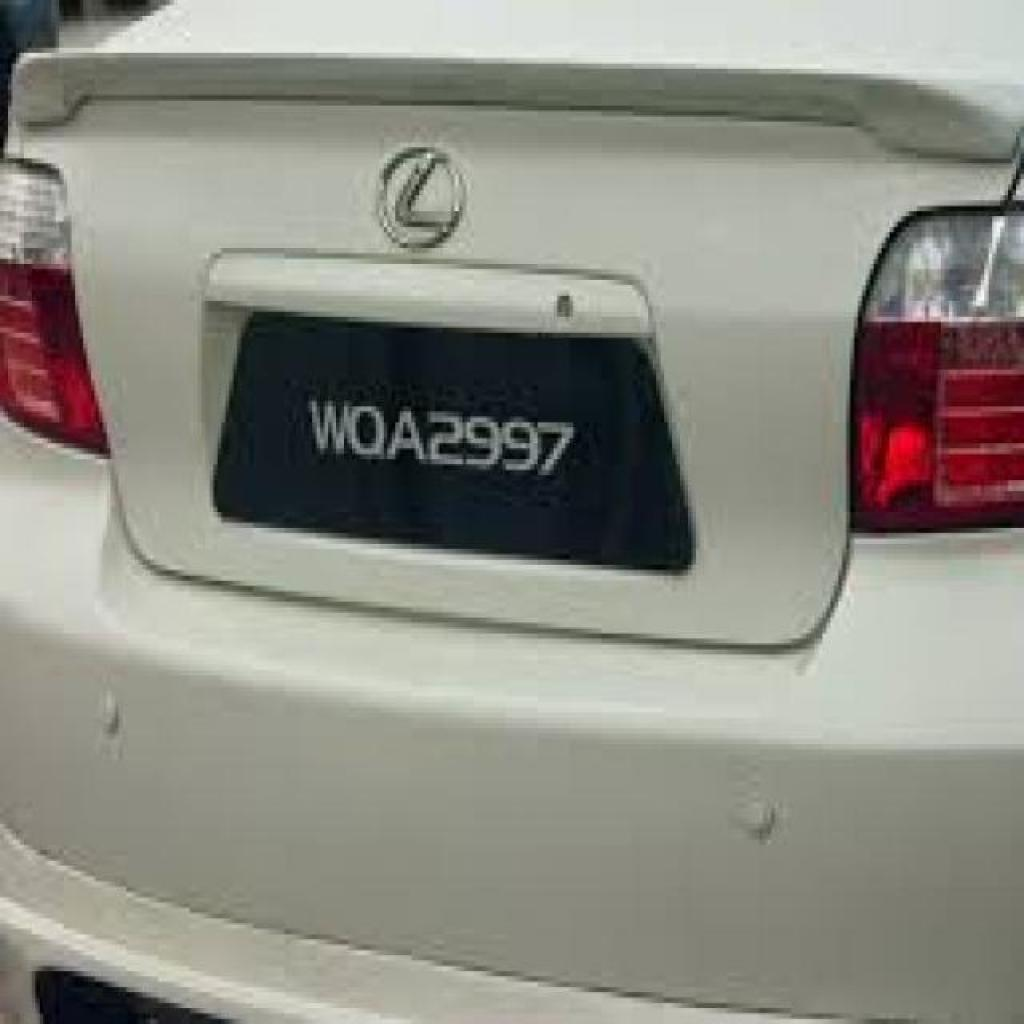car: (0, 0, 1022, 1022)
car plate: (214, 312, 691, 568)
